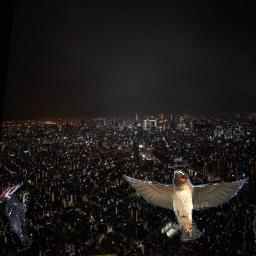Swallow: (120, 170, 249, 242)
Woodpecker: (0, 182, 33, 245)
